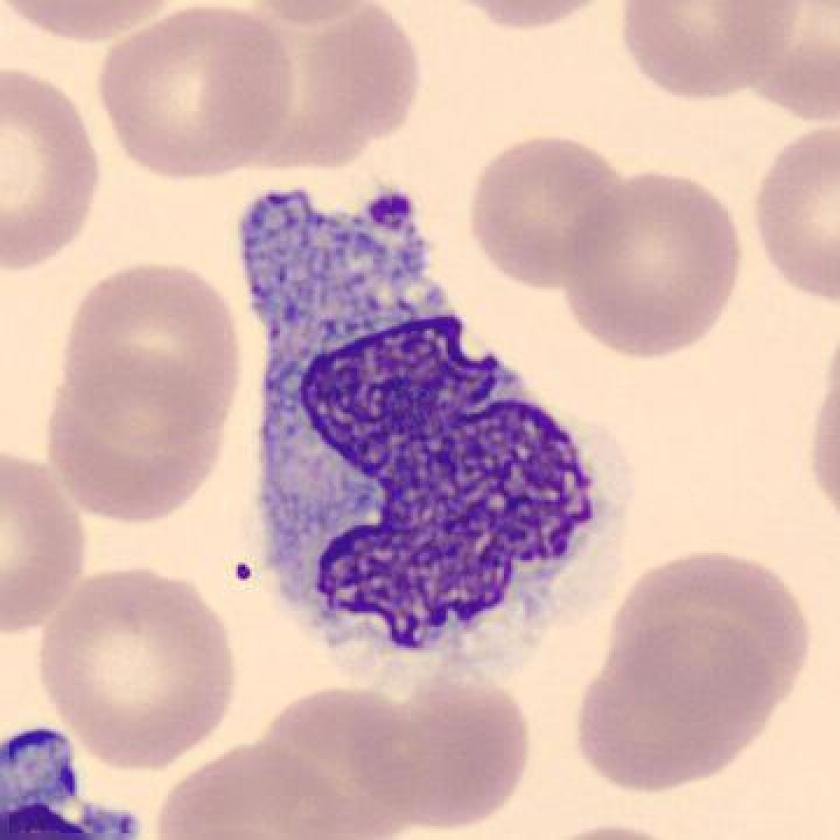monocyte: (218, 168, 645, 700)
